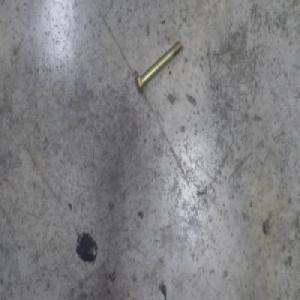Bolt: (133, 40, 183, 95)
